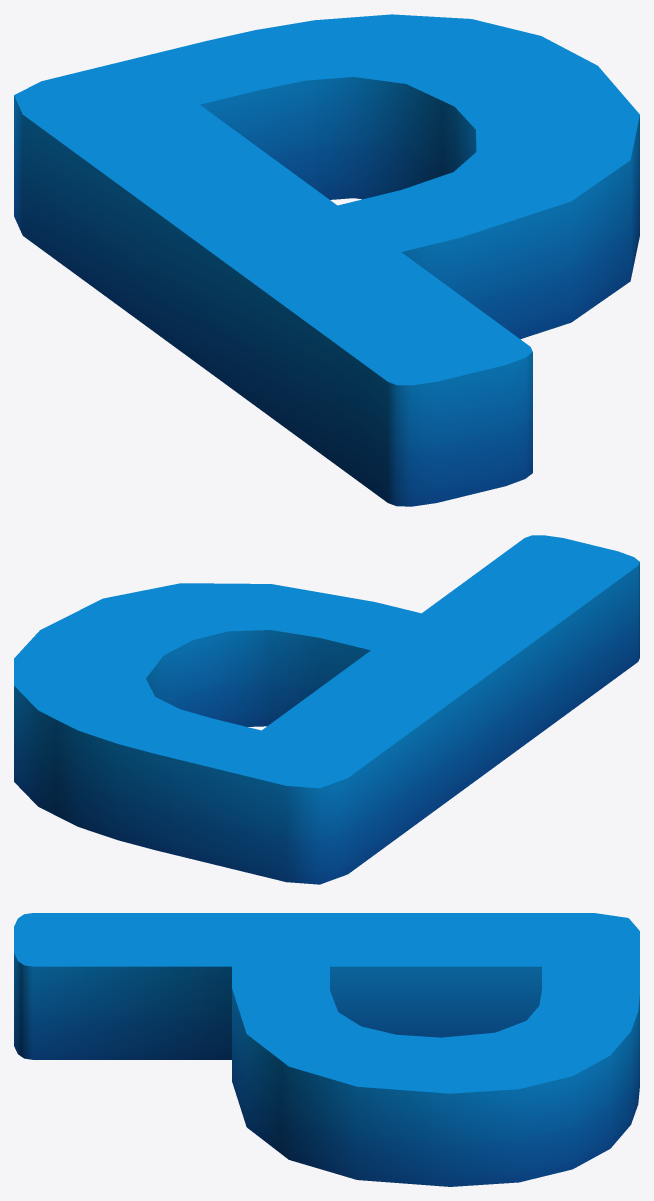
File: letter_P.fbx
The picture shows the model from 3 angles, top to bottom: view 1: azimuth 30°, elevation 25°; view 2: azimuth 150°, elevation 25°; view 3: azimuth 270°, elevation 25°; orthographic projection. The views are drawn at different scales.
Parts seen in each view (by area): view 1: letter_P; view 2: letter_P; view 3: letter_P.
Boxes of the visible parts, x1=… form: letter_P: x1=14, y1=14, x2=639, y2=506; letter_P: x1=14, y1=535, x2=639, y2=884; letter_P: x1=14, y1=913, x2=639, y2=1186.
Bounding box in the file's own units: 15.58 × 3.75 × 22.81.
